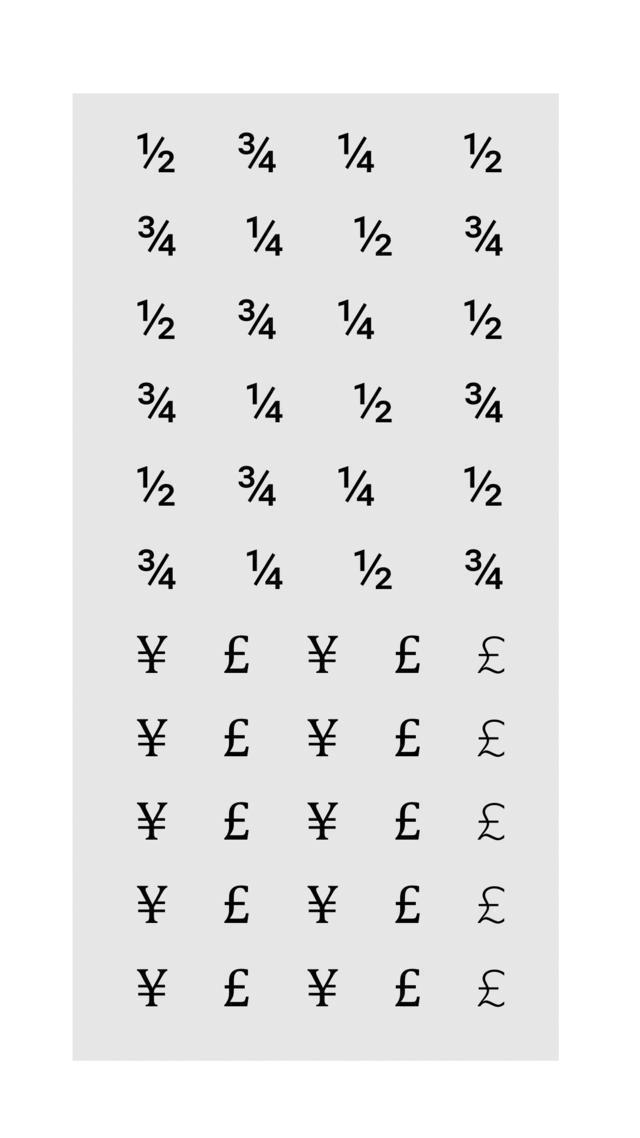ASCII: (128, 121, 182, 179), (461, 542, 508, 604), (352, 541, 396, 606), (462, 457, 508, 519), (334, 289, 378, 351), (334, 456, 378, 517), (242, 375, 286, 435), (352, 377, 396, 437), (136, 456, 180, 516), (233, 458, 280, 514), (245, 542, 288, 603), (134, 376, 180, 433), (462, 377, 508, 434), (352, 211, 397, 269), (462, 292, 507, 350), (134, 210, 180, 266), (461, 211, 507, 267), (234, 294, 280, 349), (135, 544, 180, 600), (242, 211, 286, 268), (136, 292, 180, 349), (459, 128, 505, 180), (134, 960, 172, 1020), (305, 622, 343, 682), (474, 961, 512, 1021), (236, 126, 278, 180), (305, 961, 344, 1019), (134, 874, 172, 931), (134, 794, 172, 851), (390, 624, 426, 684), (336, 126, 376, 180), (134, 626, 172, 682), (134, 708, 172, 764), (474, 875, 511, 932), (475, 629, 512, 686), (306, 794, 342, 851), (476, 713, 512, 770), (218, 794, 254, 850), (306, 708, 342, 764), (306, 876, 342, 932), (218, 713, 254, 769), (475, 795, 511, 851), (219, 625, 254, 682), (219, 961, 254, 1018), (219, 874, 254, 930), (390, 794, 424, 850), (390, 874, 424, 930), (390, 713, 424, 769), (392, 964, 426, 1020)
